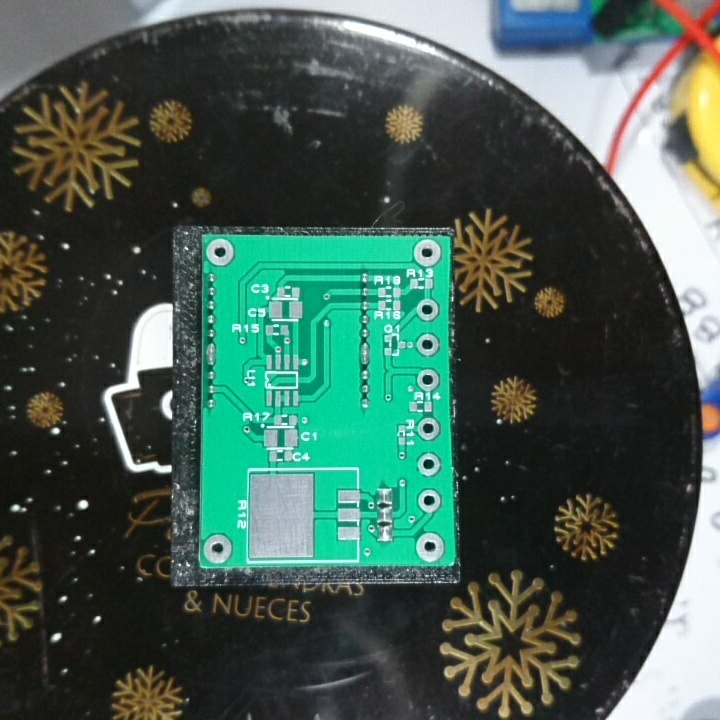F: (414, 531, 448, 563), (411, 238, 446, 269), (203, 239, 238, 268), (202, 534, 234, 563), (414, 451, 444, 479), (413, 416, 443, 443), (415, 487, 445, 514), (415, 332, 443, 359), (415, 367, 441, 394), (417, 298, 442, 323)
P: (204, 340, 222, 369), (357, 341, 376, 368)
